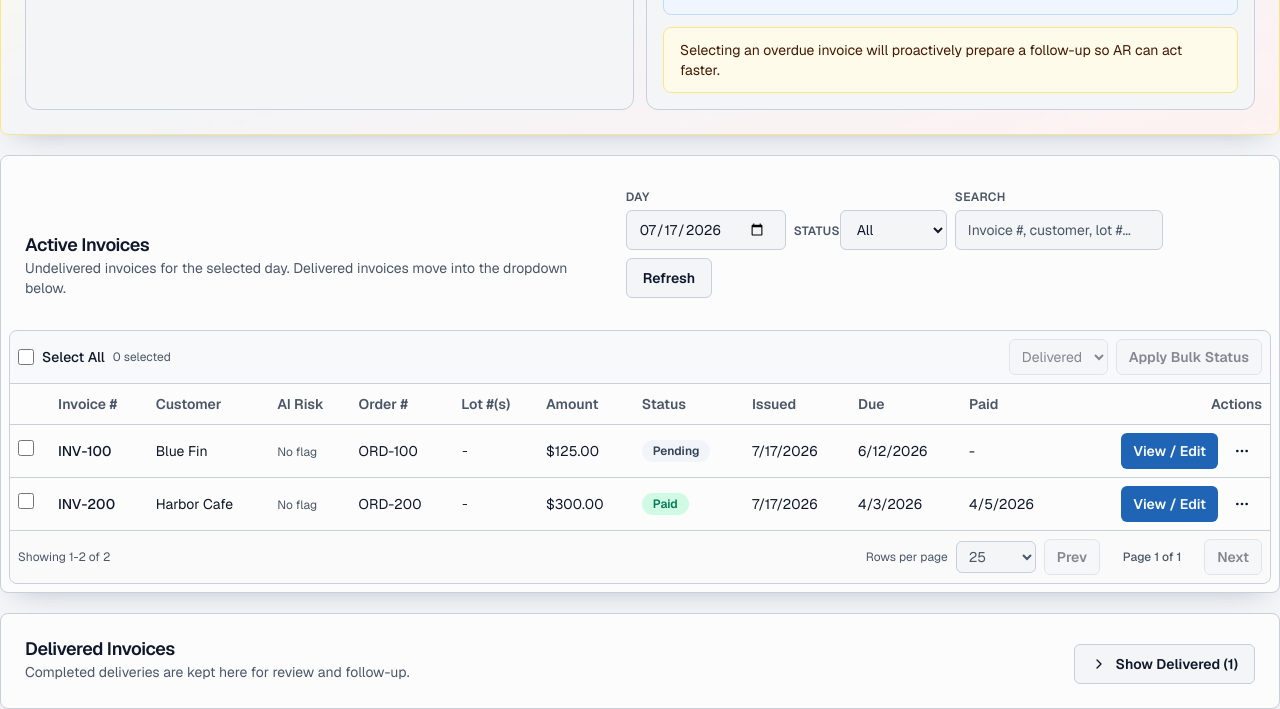
Test: InvoicesPage › resends only the invoice email for the clicked row
(page scrolled)
Expected: the text "INV-100" is shown, [50, 424, 148, 477]
Click the button named "Actions" in the row of "INV-200".
click(1242, 504)  # box [1222, 486, 1262, 522]
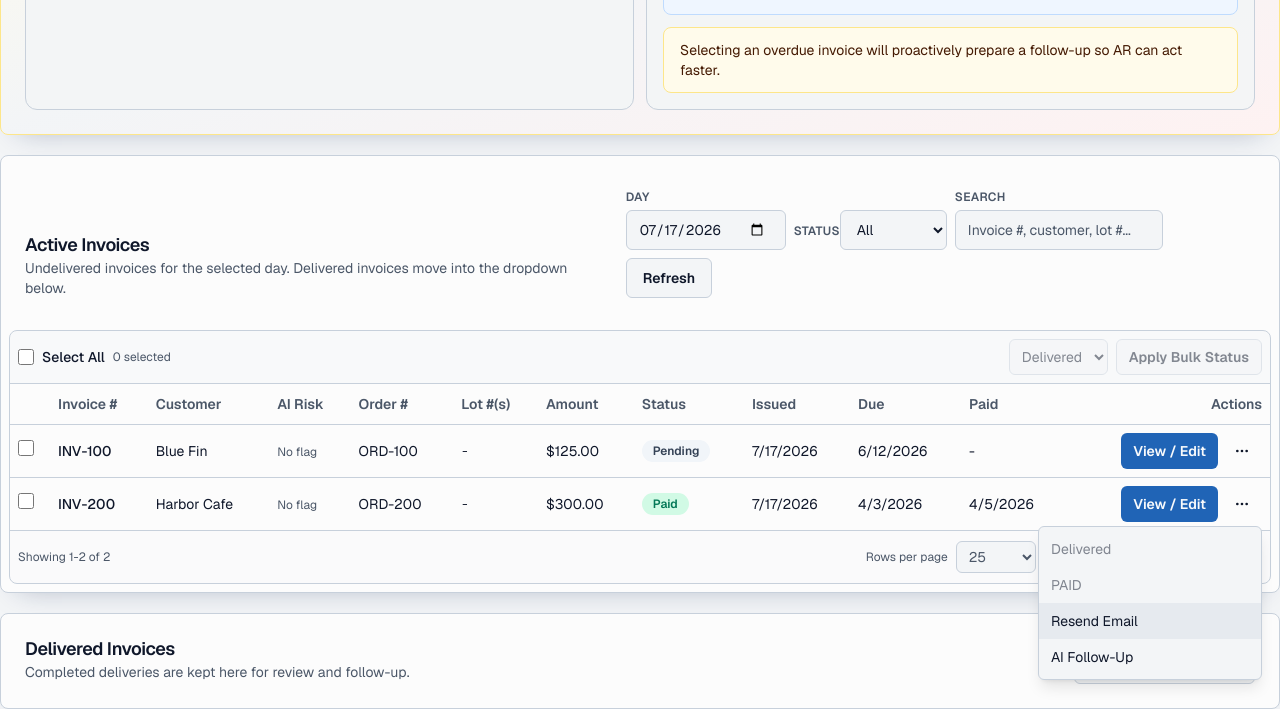
Click the menu item "Resend Email".
click(1150, 620)  # box [1039, 602, 1261, 638]
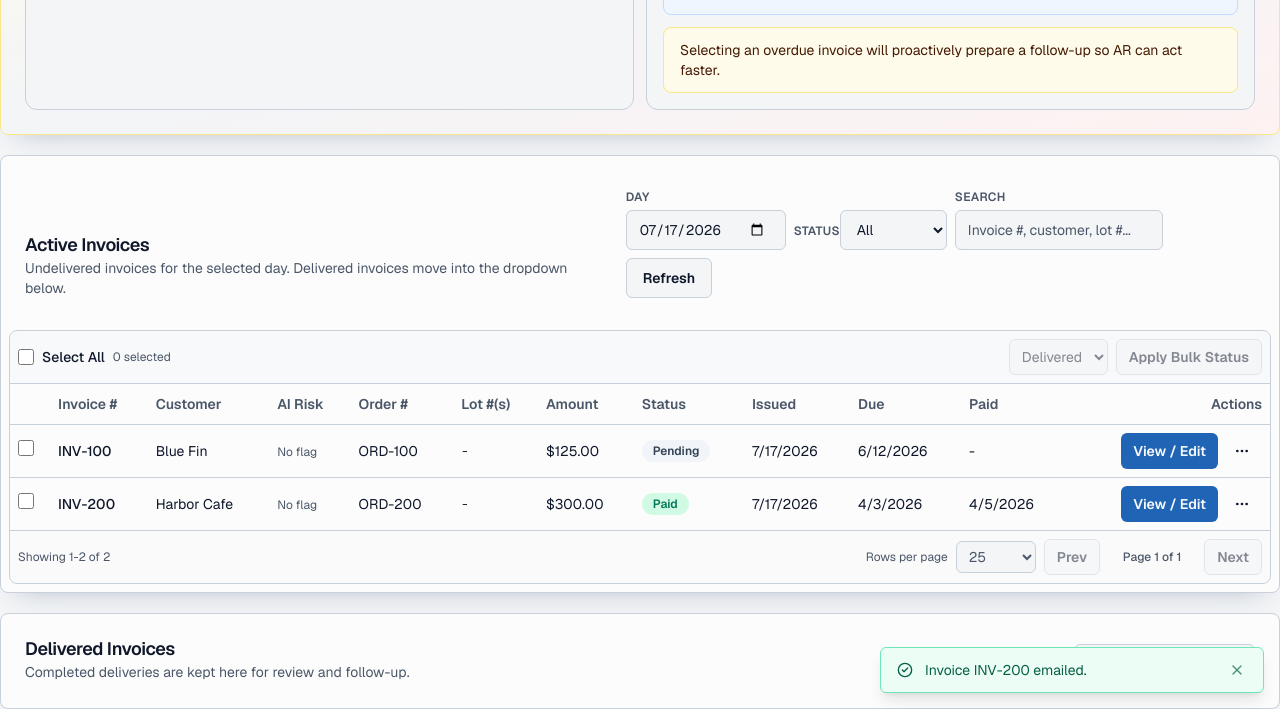
Now the text "Invoice INV-200 emailed." is shown, box [925, 661, 1087, 679]
